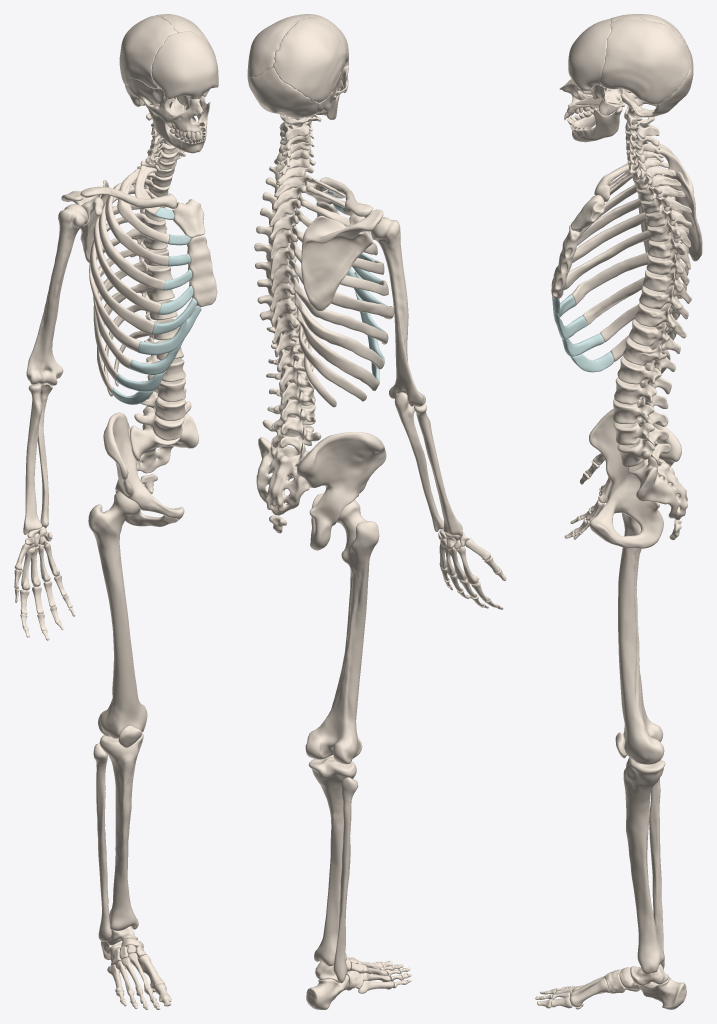
Rendered from lumc_skeleton.glb.
3 renders of one model, left to right at view 1: azimuth 30°, elevation 25°; view 2: azimuth 150°, elevation 25°; view 3: azimuth 270°, elevation 25°, orthographic. The views are drawn at different scales.
Visible parts, largest first — view 1: Femur.r, Tibia.r, Frontal bone, Humerus.r, Hip bone.r, Parietal bone right, Sacrum, Fibula.r, Radius.r, Body of sternum, Rib (6th).r, Rib (4th).r (+24 smaller); view 2: Femur.r, Hip bone.r, Scapula.r., Parietal bone right, Tibia.r, Humerus.r, Sacrum, Occipital bone, Fibula.r, Parietal bone left, Ulna.r, Radius.r (+15 smaller); view 3: Parietal bone left, Femur.r, Hip bone.r, Tibia.r, Sacrum, Frontal bone, Fibula.r, Scapula.r., Mandible bone, Occipital bone, Rib (7th).r, Lumbar vertebrae (L1) (+32 smaller).
Boxes of the visible parts, bbox=[...] form: Femur.r: bbox=[88, 491, 147, 738]; Tibia.r: bbox=[99, 733, 143, 930]; Frontal bone: bbox=[151, 31, 218, 99]; Humerus.r: bbox=[26, 204, 87, 385]; Hip bone.r: bbox=[103, 412, 184, 526]; Parietal bone right: bbox=[119, 15, 177, 88]; Sacrum: bbox=[130, 413, 198, 473]; Fibula.r: bbox=[93, 743, 111, 941]; Radius.r: bbox=[23, 383, 42, 534]; Body of sternum: bbox=[187, 235, 217, 306]; Rib (6th).r: bbox=[90, 213, 154, 334]; Rib (4th).r: bbox=[98, 186, 165, 290]; Femur.r: bbox=[305, 500, 379, 764]; Hip bone.r: bbox=[297, 432, 386, 550]; Scapula.r.: bbox=[301, 209, 383, 311]; Parietal bone right: bbox=[273, 17, 346, 102]; Tibia.r: bbox=[308, 756, 356, 966]; Humerus.r: bbox=[370, 217, 425, 406]; Sacrum: bbox=[256, 437, 309, 515]; Occipital bone: bbox=[248, 67, 318, 117]; Fibula.r: bbox=[333, 777, 358, 983]; Parietal bone left: bbox=[247, 15, 309, 81]; Ulna.r: bbox=[394, 392, 443, 531]; Radius.r: bbox=[414, 403, 462, 535]; Parietal bone left: bbox=[599, 18, 690, 104]; Femur.r: bbox=[618, 513, 664, 764]; Hip bone.r: bbox=[589, 407, 681, 548]; Tibia.r: bbox=[623, 757, 665, 974]; Sacrum: bbox=[628, 441, 687, 520]; Frontal bone: bbox=[568, 18, 611, 90]; Fibula.r: bbox=[649, 778, 664, 969]; Scapula.r.: bbox=[650, 143, 702, 261]; Mandible bone: bbox=[570, 105, 622, 142]; Occipital bone: bbox=[620, 48, 693, 117]; Rib (7th).r: bbox=[571, 242, 688, 305]; Lumbar vertebrae (L1): bbox=[617, 356, 671, 394].
Bounding box in the file's own units: 0.4097 × 1.7 × 0.2542.
